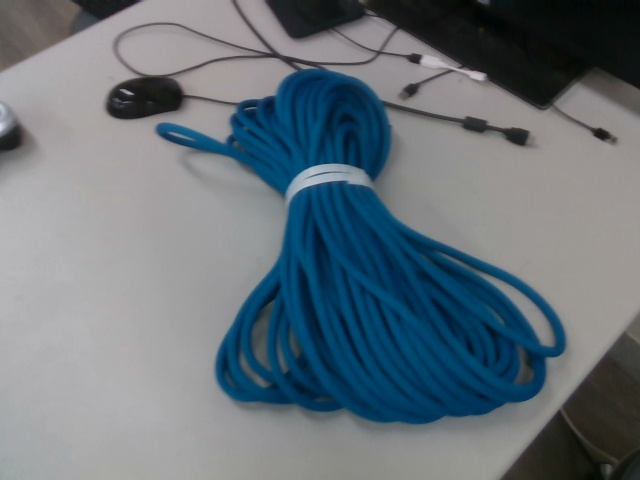rope: (154, 67, 573, 426)
